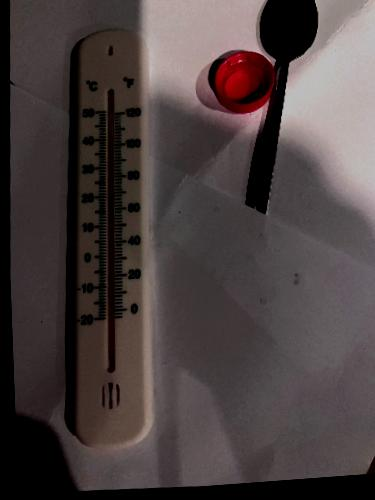thermo: (68, 30, 154, 444)
